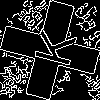K: (25, 25, 77, 69)
